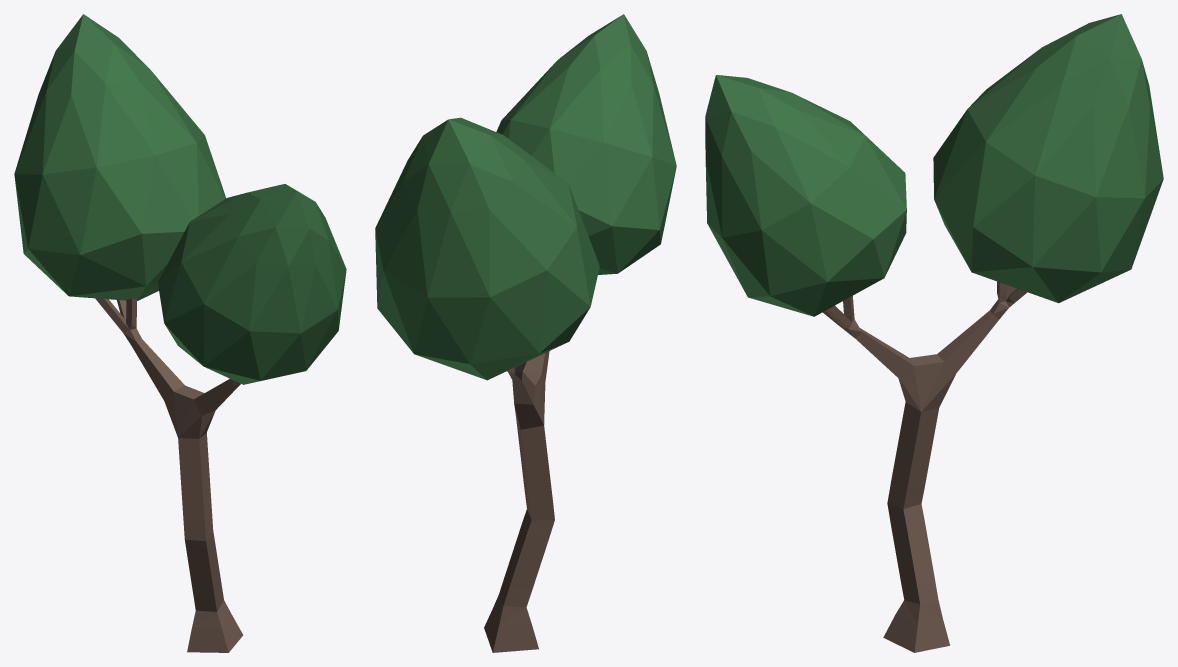
Rendered from olive_tree.dae.
The picture shows the model from 3 angles, left to right: view 1: azimuth 30°, elevation 25°; view 2: azimuth 150°, elevation 25°; view 3: azimuth 270°, elevation 25°; orthographic projection. The views are drawn at different scales.
Visible parts, largest first — view 1: Tree; view 2: Tree; view 3: Tree.
Boxes of the visible parts, <box> form: Tree: <box>14,14,346,652</box>; Tree: <box>375,14,676,652</box>; Tree: <box>705,14,1163,652</box>.
Size of the model in its own units: 1.69 by 3.17 by 4.67.
